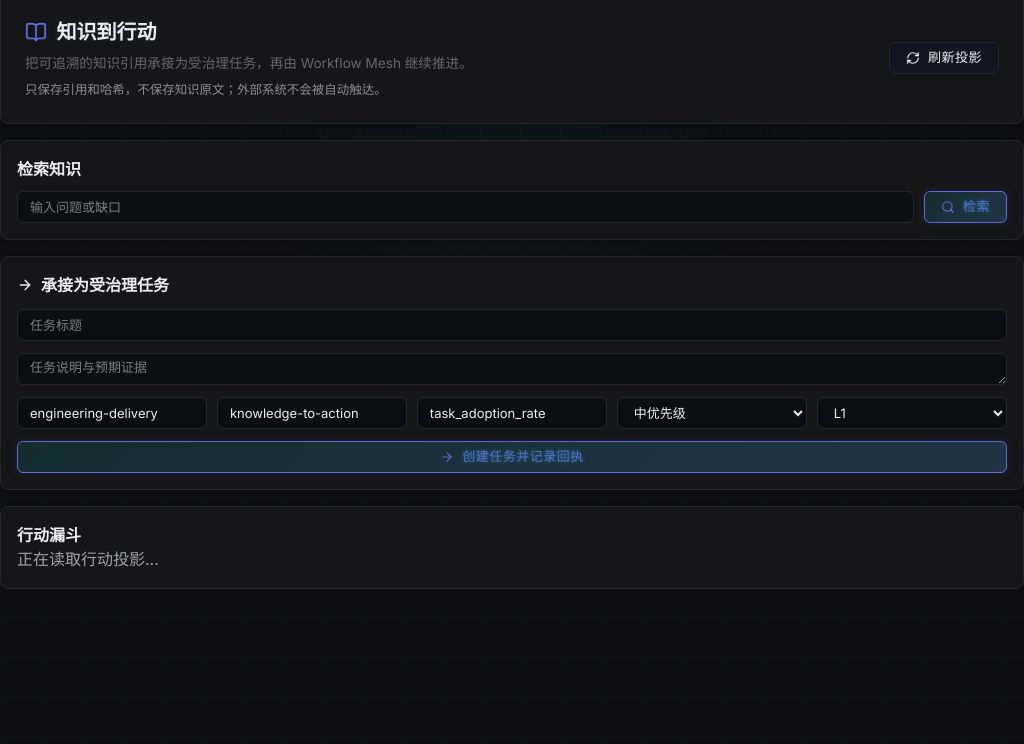
Scenario: KnowledgeActionView › requires an explicit workflow request after task creation
Step 1. Type "交付" into the field labelled "检索知识" → x=466, y=207, box [17, 191, 914, 223]
Step 2. Click the button "检索" → x=966, y=207, box [924, 191, 1007, 223]
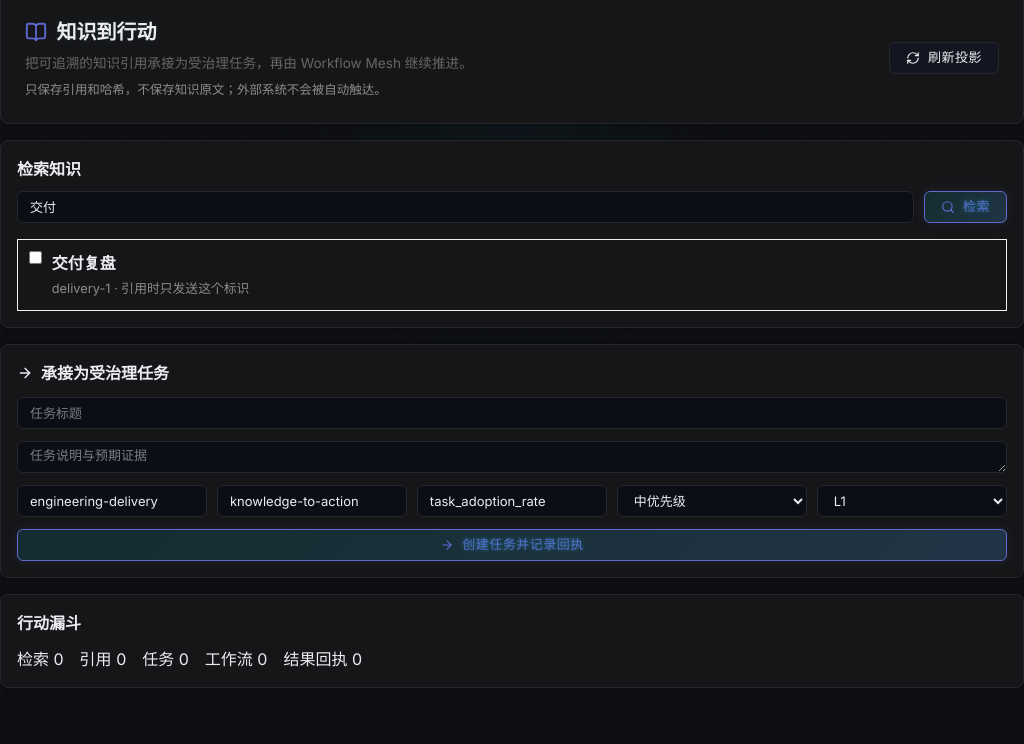
Check: the text "交付复盘" is shown, box [52, 253, 116, 273]
Step 3. Click the checkbox → x=36, y=257, box [29, 251, 42, 264]
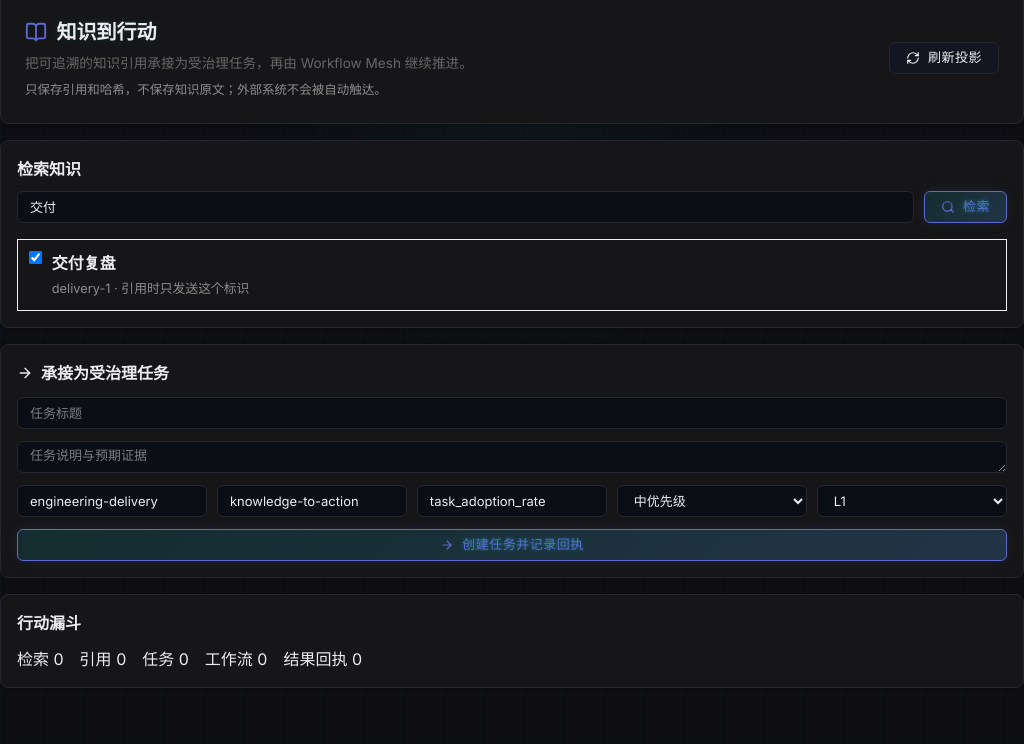
Step 4. Type "请求工作流" into the field labelled "任务标题" → x=512, y=413, box [17, 397, 1007, 429]
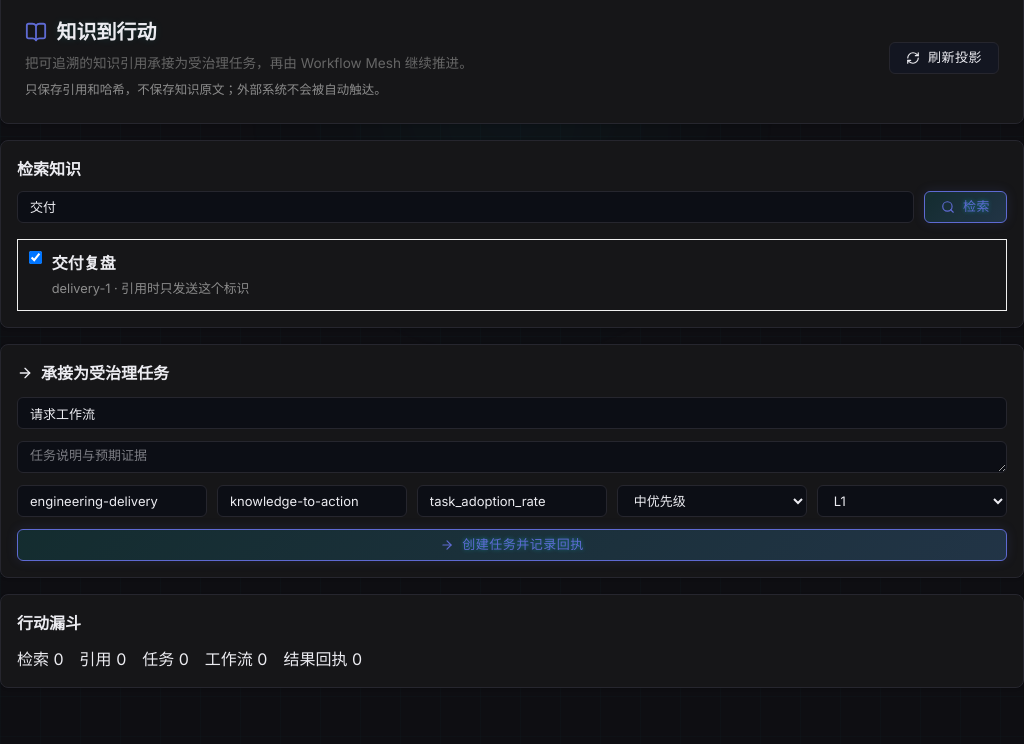
Step 5. Type "把知识行动交给受治理工作流。" into the text box labelled "任务说明" → x=512, y=457, box [17, 441, 1007, 473]
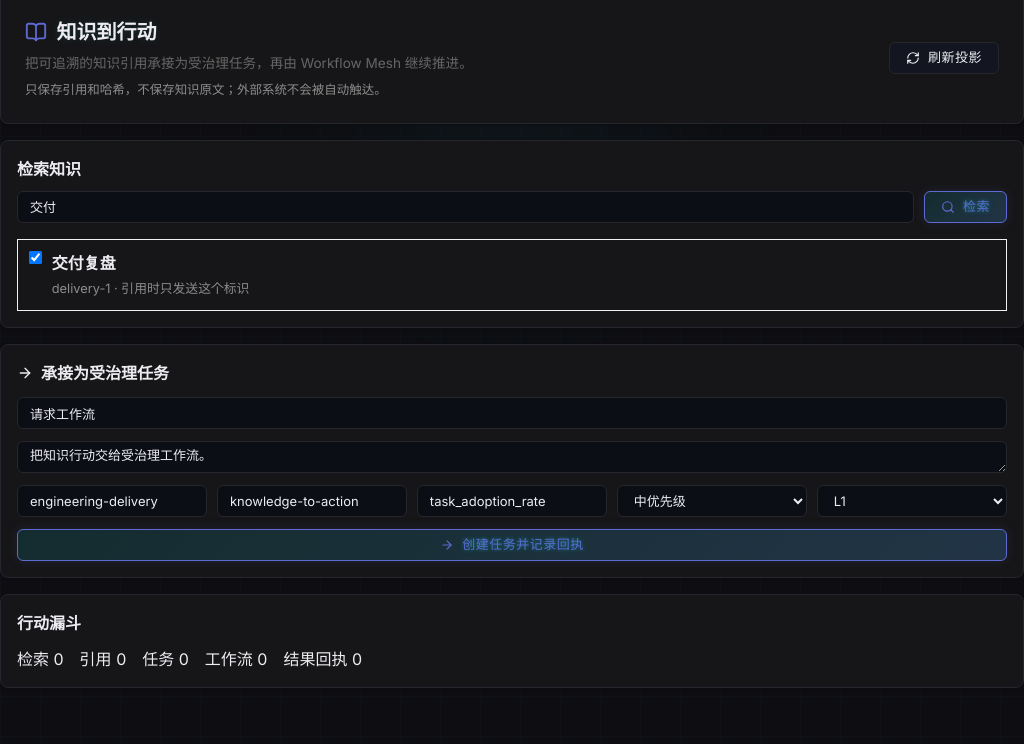
Step 6. Click the button "创建任务并记录回执" → x=512, y=545, box [17, 529, 1007, 561]
(page scrolled)
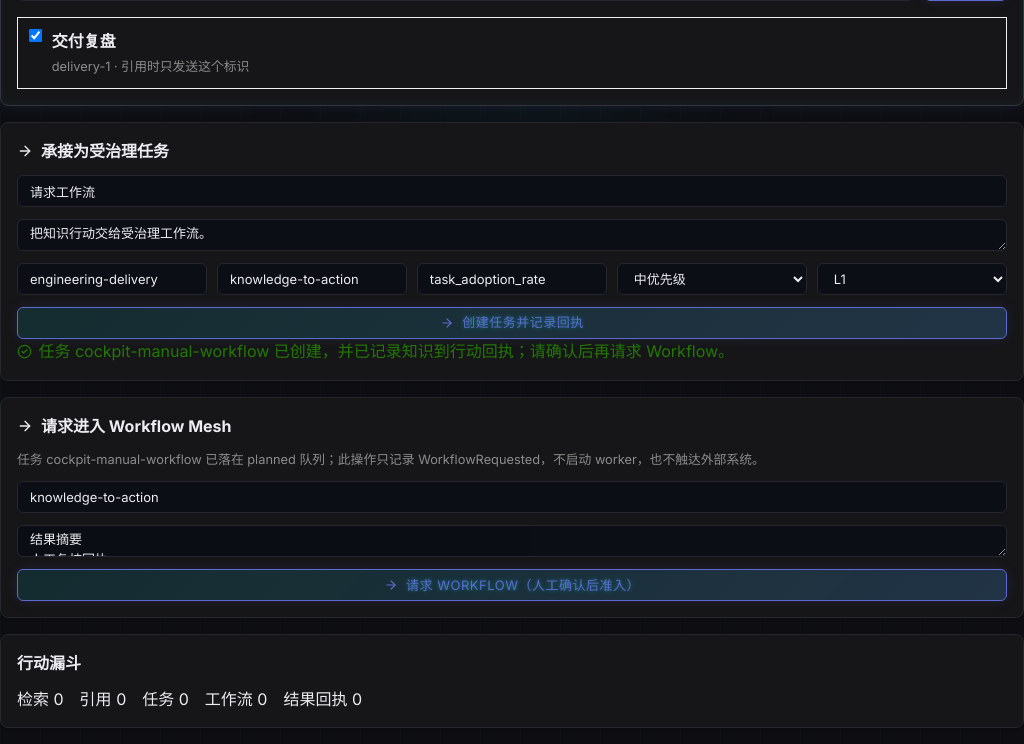
Check: the text "任务 cockpit-manual-workflow 已创建，并已记录知识到行动回执；请确认后再请求 Workflow。" is shown, box [17, 341, 734, 361]
Step 7. Click the button "请求 Workflow（人工确认后准入）" → x=512, y=586, box [17, 570, 1007, 602]
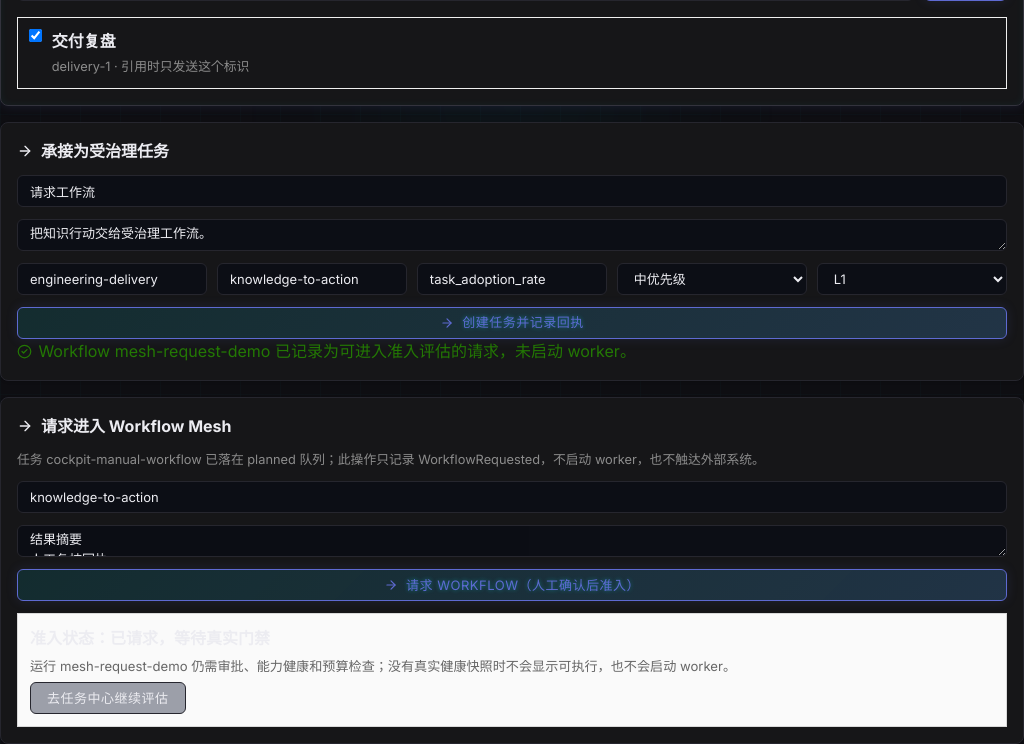
Check: the text "mesh-request-demo 已记录" is shown, box [38, 341, 636, 361]
